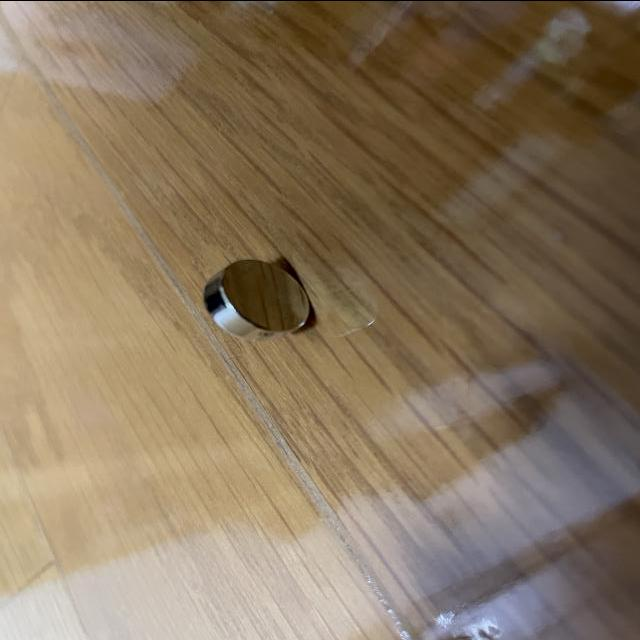COIN: (201, 256, 313, 341)
